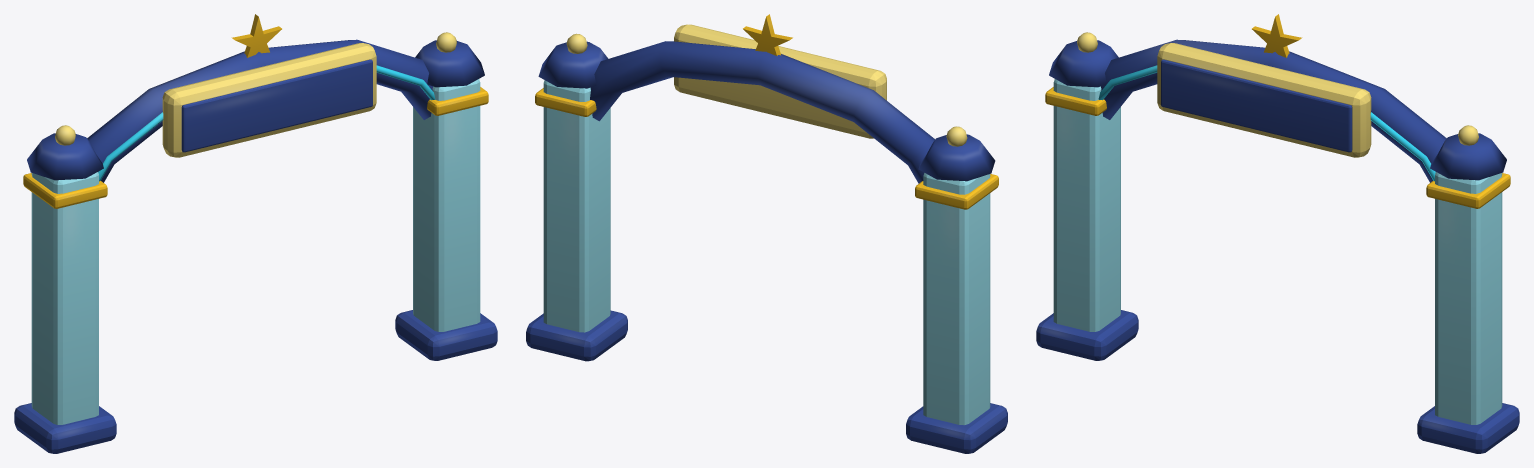
Rendered from PlotGateArch.fbx.
The picture shows the model from 3 angles, left to right: view 1: azimuth 30°, elevation 25°; view 2: azimuth 150°, elevation 25°; view 3: azimuth 330°, elevation 25°; orthographic projection.
Parts seen in each view (by area): view 1: PlotGateArch; view 2: PlotGateArch; view 3: PlotGateArch.
Part boxes in pixels (box(x1,y1,x2,y2)): PlotGateArch: box(14, 14, 497, 453); PlotGateArch: box(526, 14, 1007, 453); PlotGateArch: box(1036, 14, 1519, 453).
Size of the model in its own units: 13 by 10.34 by 2.13.
Materials: 1 (1 with a texture image).
